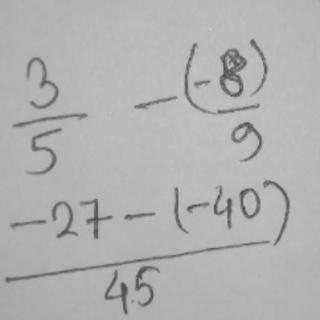.: (129, 295, 136, 305)
0: (239, 187, 261, 218)
2: (51, 202, 77, 236)
3: (23, 55, 60, 110)
4: (105, 270, 130, 314), (213, 185, 234, 229)
5: (25, 126, 62, 178), (136, 264, 162, 307)
7: (78, 198, 111, 238)
8: (219, 48, 247, 97)
9: (233, 122, 262, 163)
